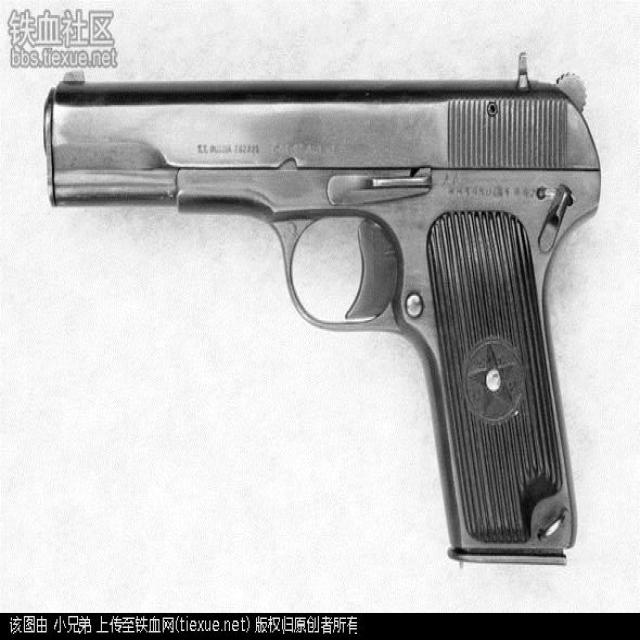gun: (42, 58, 599, 570)
